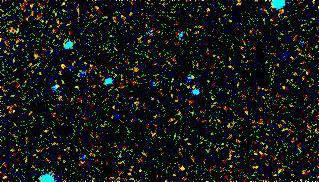star: (170, 159, 200, 182)
